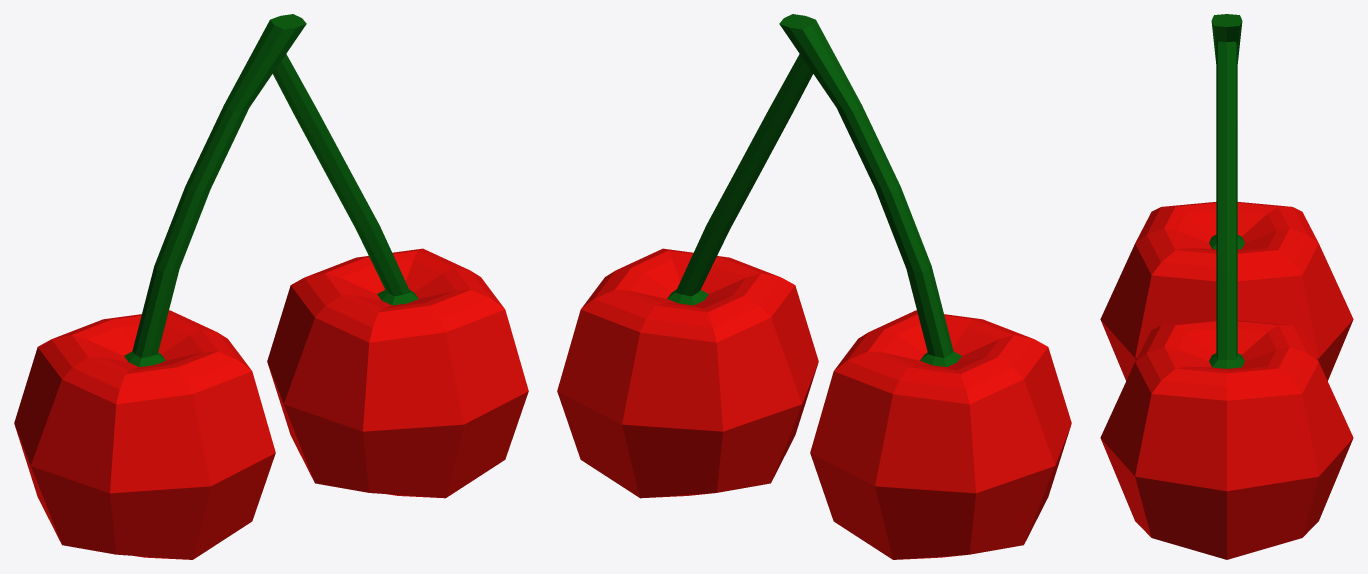
The model's file is Base Cherry.fbx.
3 views of the same model, side by side, from view 1: azimuth 30°, elevation 25°; view 2: azimuth 150°, elevation 25°; view 3: azimuth 270°, elevation 25° (orthographic). The views are drawn at different scales.
Visible parts, largest first — view 1: Cherry; view 2: Cherry; view 3: Cherry.
Boxes of the visible parts, left/top/right/bottom form: Cherry: left=14, top=14, right=528, bottom=559; Cherry: left=557, top=14, right=1071, bottom=559; Cherry: left=1100, top=14, right=1353, bottom=559.
Bounding box in the file's own units: 164 × 163 × 77.76.
